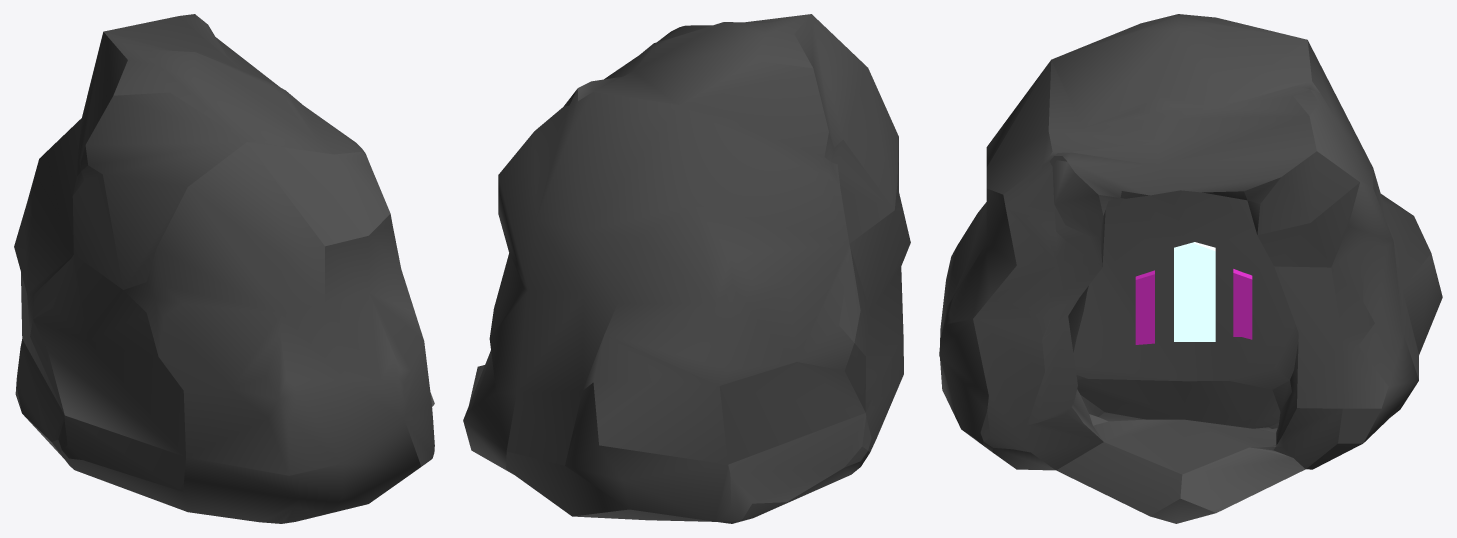
Rendered from Statue_1.fbx.
The picture shows the model from 3 angles, left to right: view 1: azimuth 30°, elevation 25°; view 2: azimuth 150°, elevation 25°; view 3: azimuth 270°, elevation 25°; orthographic projection. The views are drawn at different scales.
Parts seen in each view (by area): view 1: Cube.001; view 2: Cube.001; view 3: Cube.001, Cube, Cube.002, Cube.003.
Boxes of the visible parts, x1,y1,x2,y2 form: Cube.001: (14, 14, 434, 523); Cube.001: (463, 14, 910, 523); Cube.001: (939, 14, 1442, 523); Cube: (1174, 242, 1215, 341); Cube.002: (1135, 270, 1154, 344); Cube.003: (1233, 269, 1252, 339).
Size of the model in its own units: 9.58 by 9.72 by 11.56.
